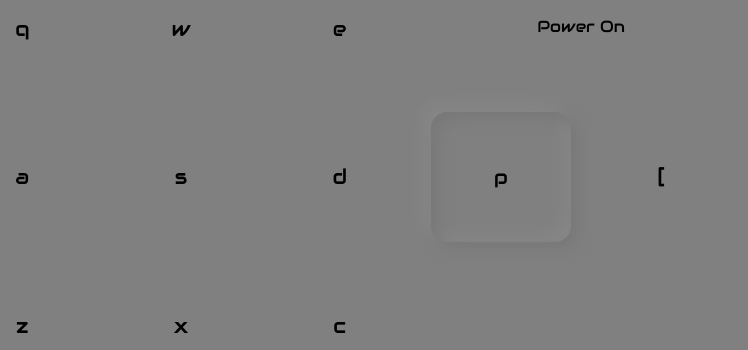
Test: App › Should change preset
The width and height of the screenshot is (748, 350).
Click the checkbox with test id "preset": (661, 177) x1=591 y1=112 x2=731 y2=242
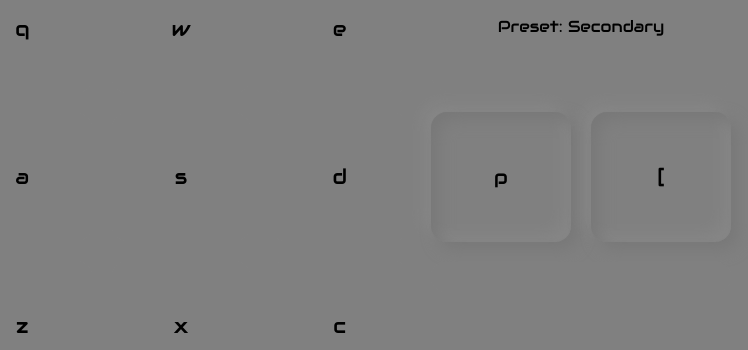
Click the checkbox with test id "preset": (661, 177) x1=591 y1=112 x2=731 y2=242
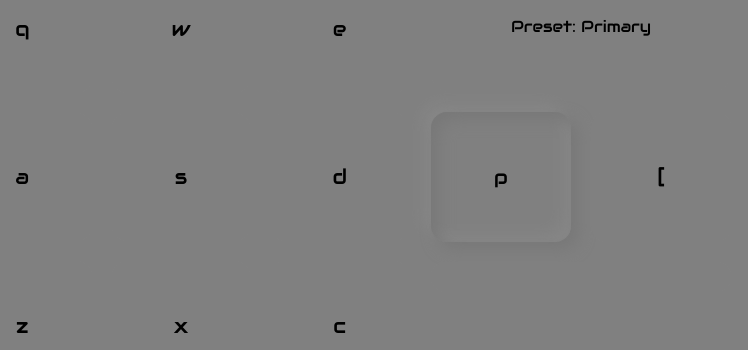
expect the text with test id "display" reads "Preset: Primary": met, box x1=511 y1=16 x2=651 y2=37
